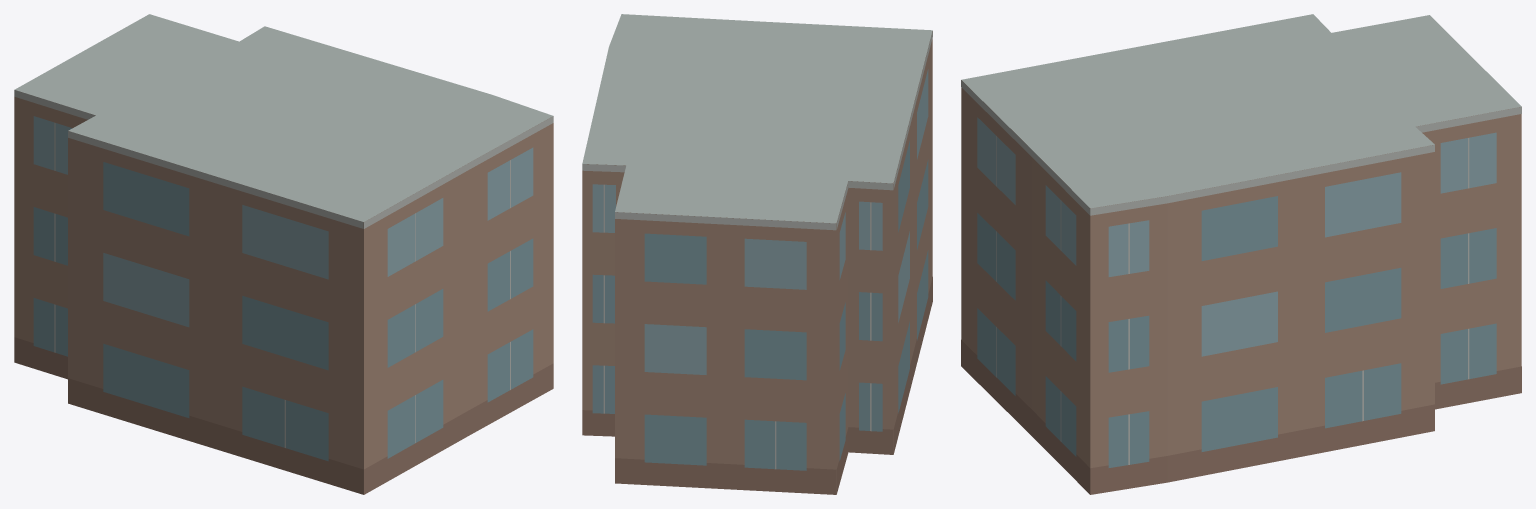
The model's file is survey-upis-32980194.glb.
3 renders of one model, left to right at view 1: azimuth 30°, elevation 25°; view 2: azimuth 150°, elevation 25°; view 3: azimuth 270°, elevation 25°, orthographic. The views are drawn at different scales.
Visible parts, largest first — view 1: survey-upis-32980194.tmp; view 2: survey-upis-32980194.tmp; view 3: survey-upis-32980194.tmp.
Boxes of the visible parts, x1,y1,x2,y2 form: survey-upis-32980194.tmp: (14, 14, 553, 494); survey-upis-32980194.tmp: (582, 14, 932, 494); survey-upis-32980194.tmp: (961, 14, 1521, 494).
Size of the model in its own units: 13.99 by 9.6 by 17.04.
